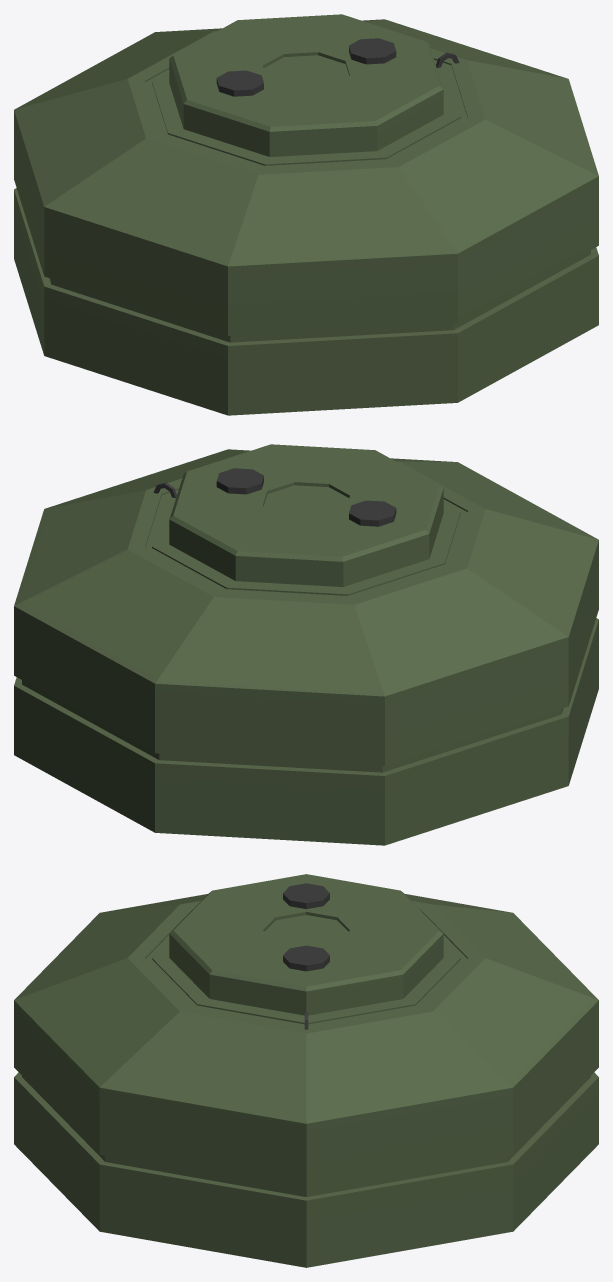
File: Mine_03.fbx
3 renders of one model, top to bottom at view 1: azimuth 30°, elevation 25°; view 2: azimuth 150°, elevation 25°; view 3: azimuth 270°, elevation 25°, orthographic. The views are drawn at different scales.
Visible parts, largest first — view 1: Mine_03; view 2: Mine_03; view 3: Mine_03.
Boxes of the visible parts, x1=… form: Mine_03: x1=14, y1=14, x2=598, y2=415; Mine_03: x1=14, y1=444, x2=598, y2=845; Mine_03: x1=14, y1=874, x2=598, y2=1267.
Size of the model in its own units: 0.2763 by 0.1146 by 0.2763.
